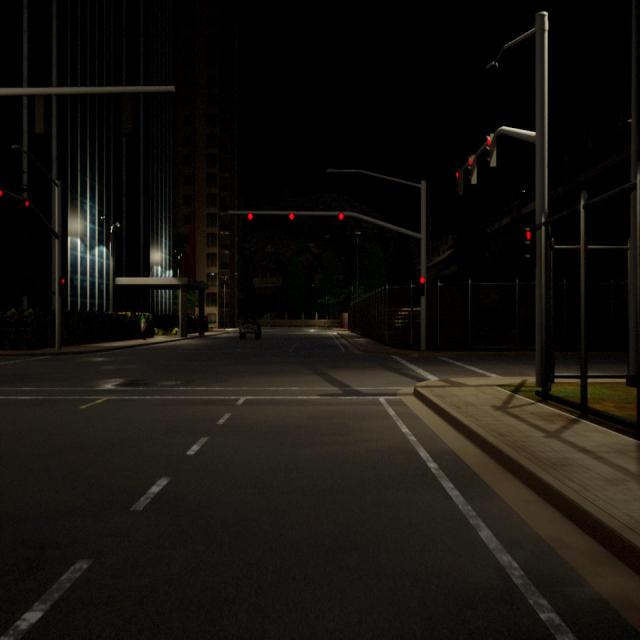Vehicle: (238, 318, 262, 339)
traffic_light: (524, 228, 536, 262), (486, 134, 496, 167), (468, 154, 477, 184), (456, 170, 463, 195), (420, 277, 425, 296), (59, 276, 64, 294), (24, 200, 30, 208), (288, 212, 294, 220), (338, 212, 344, 220), (248, 212, 253, 220), (0, 190, 3, 197)
